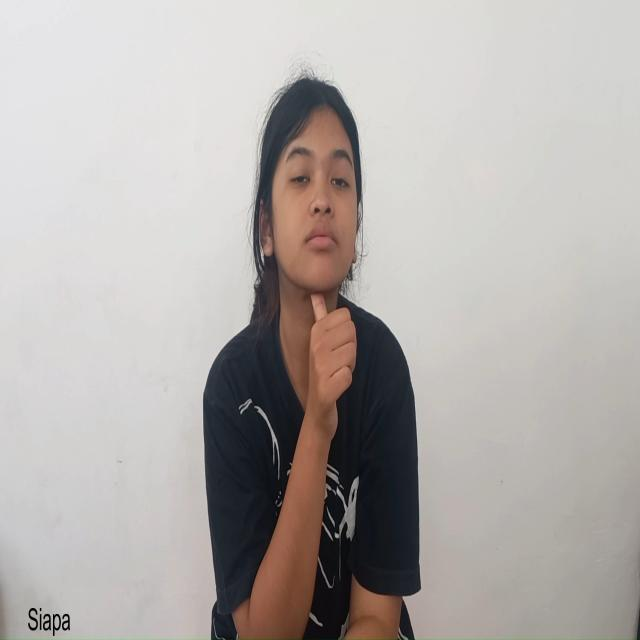Siapa -BISINDO-: (241, 68, 374, 457)
